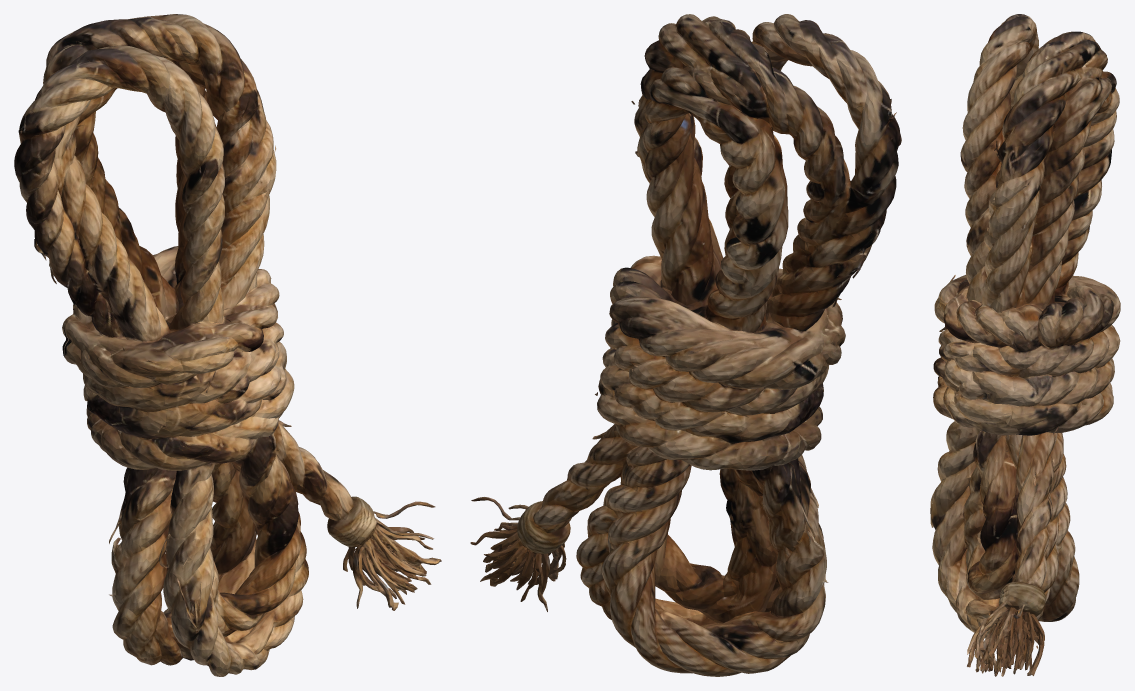
Rendered from Corde.glb.
3 views of the same model, side by side, from view 1: azimuth 30°, elevation 25°; view 2: azimuth 150°, elevation 25°; view 3: azimuth 270°, elevation 25° (orthographic). The views are drawn at different scales.
Visible parts, largest first — view 1: world; view 2: world; view 3: world.
Part boxes in pixels (left/top/right/bottom): world: left=14, top=14, right=441, bottom=676; world: left=470, top=14, right=901, bottom=676; world: left=930, top=14, right=1120, bottom=676.
Size of the model in its own units: 1.34 by 1.98 by 0.6074.
Materials: 1 (1 with a texture image).
